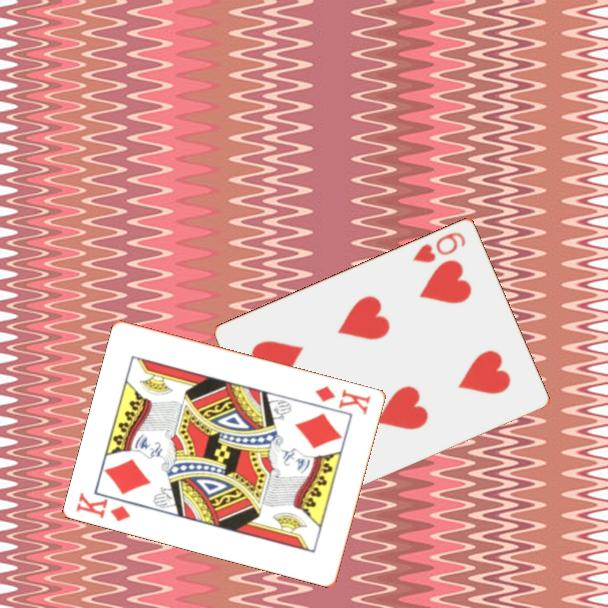d13: (312, 382, 374, 418), (73, 489, 134, 524)
h06: (409, 228, 469, 265)
